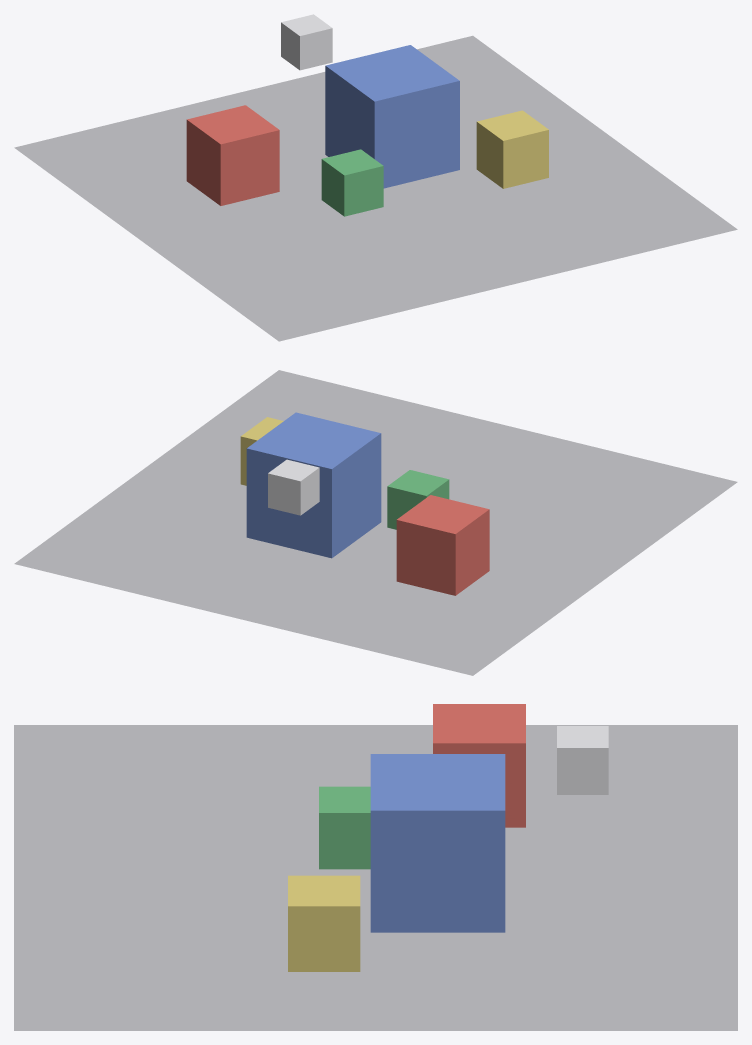
Rendered from shapes.gltf.
The picture shows the model from 3 angles, top to bottom: view 1: azimuth 30°, elevation 25°; view 2: azimuth 150°, elevation 25°; view 3: azimuth 270°, elevation 25°; orthographic projection. The views are drawn at different scales.
Visible parts, largest first — view 1: shapes; view 2: shapes; view 3: shapes.
Boxes of the visible parts, x1,y1,x2,y2 form: shapes: [14, 14, 737, 341]; shapes: [14, 370, 737, 675]; shapes: [14, 704, 737, 1030].
Bounding box in the file's own units: 14 × 3.1 × 14.
